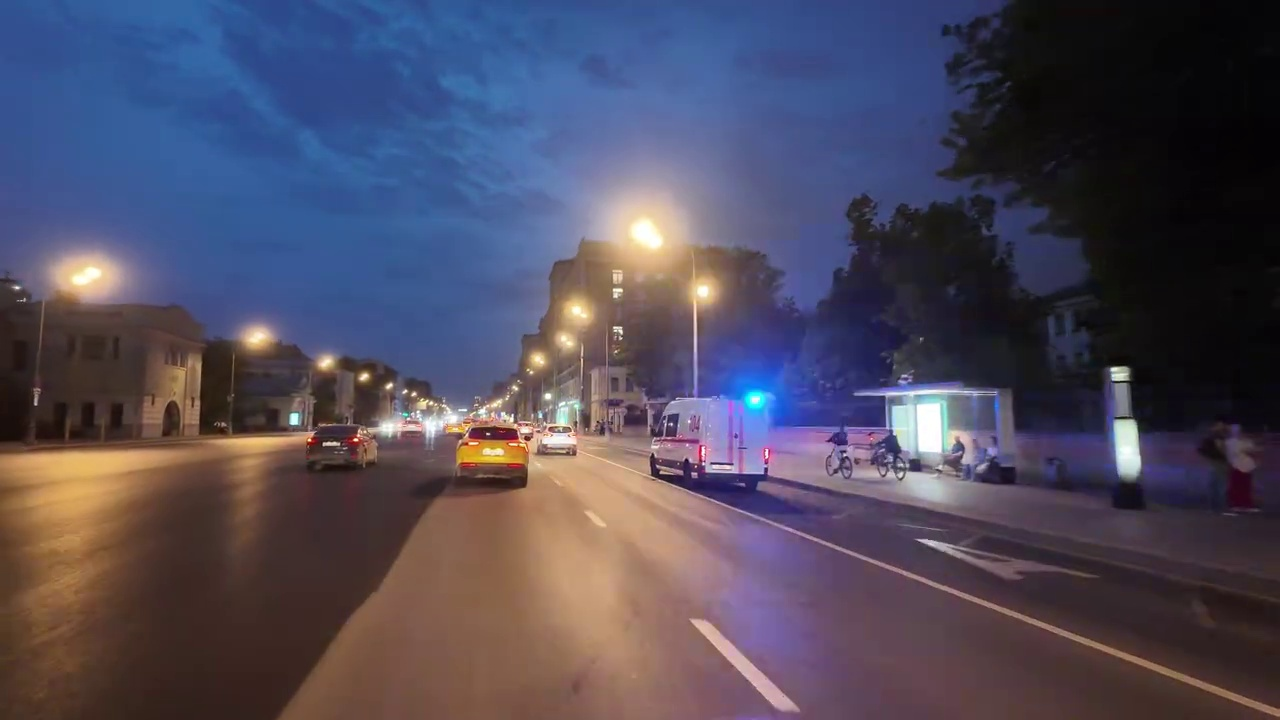acesa: (622, 211, 672, 260), (556, 297, 592, 350), (61, 259, 110, 296), (560, 295, 594, 331), (688, 277, 719, 308), (241, 324, 274, 353), (314, 352, 338, 375)
